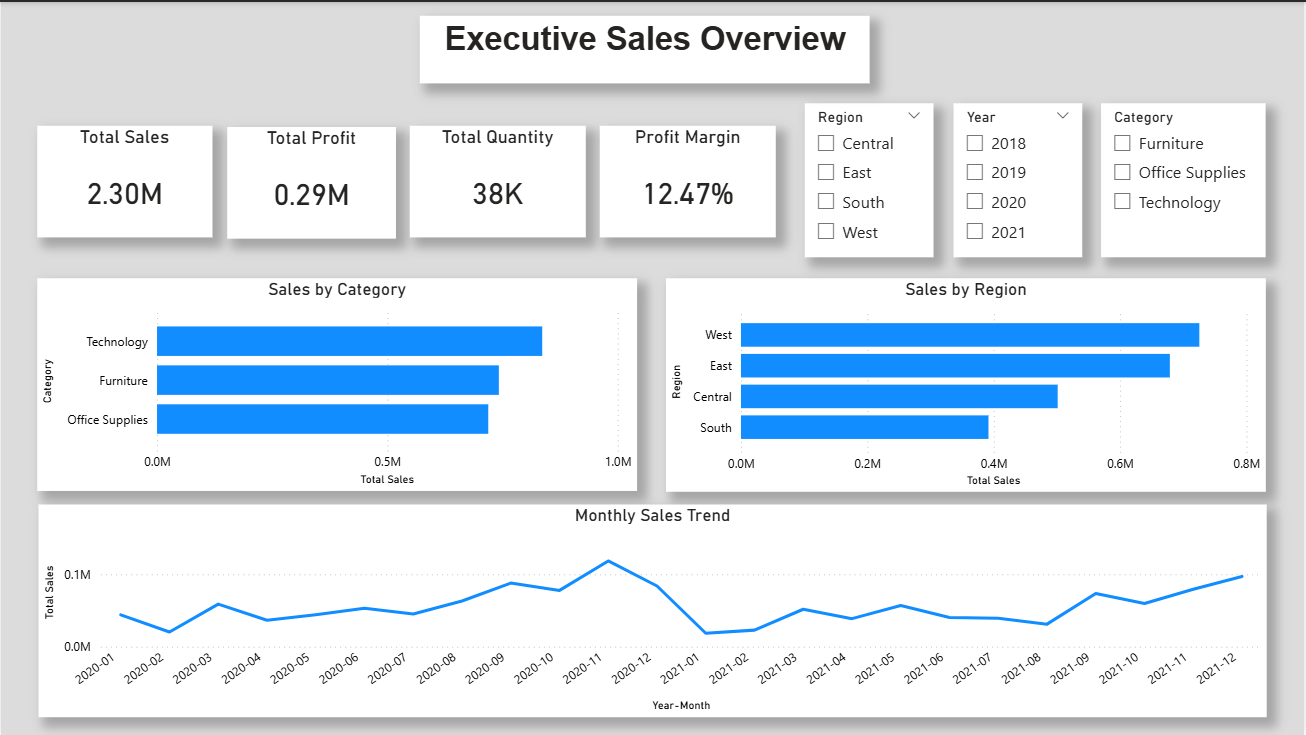

What the dashboard file says about the page in this screenshot:
{"tool":"powerbi","page":{"name":" Executive Overview","canvas":[1280,720],"ordinal":0},"visuals":[{"type":"card","title":"Total Sales","fields":{"Values":["Orders1.Total Sales"]},"box":[35.6,121.5,171.8,109.2],"z":0},{"type":"card","title":"Total Profit","fields":{"Values":["Orders1.Total Profit"]},"box":[222.1,122.7,165.6,109.2],"z":1000},{"type":"card","title":"Total Quantity","fields":{"Values":["Orders1.Total Quantity"]},"box":[401.2,121.5,173,109.2],"z":2000},{"type":"card","title":"Profit Margin","fields":{"Values":["Orders1.Profit Margin %"]},"box":[587.7,121.5,173,109.2],"z":3000},{"type":"clusteredBarChart","title":"Sales by Category","fields":{"Category":["Orders1.Category"],"Y":["Orders1.Total Sales"]},"box":[35.6,271.5,589,208.6],"z":4000},{"type":"clusteredBarChart","title":"Sales by Region","fields":{"Category":["Orders1.Region"],"Y":["Orders1.Total Sales"]},"box":[652.8,270.9,589,209.8],"z":5000},{"type":"slicer","fields":{"Values":["Orders1.Region"]},"box":[789,99.4,126.4,150.9],"z":6000},{"type":"slicer","fields":{"Values":["Orders1.Category"]},"box":[1079.8,99.4,162,150.9],"z":7000},{"type":"slicer","fields":{"Values":["Date_Table.Year"]},"box":[934.4,99.4,126.4,150.9],"z":8000},{"type":"lineChart","title":"Monthly Sales Trend","fields":{"Category":["Date_Table.Year-Month"],"Y":["Orders1.Total Sales"]},"box":[37.1,492.9,1205.7,208.6],"z":9000},{"type":"textbox","box":[422.1,13.5,430.7,66.3],"z":10000}]}

Visuals, with their boxes in screenshot pixels (x1, y1, x2, y2), scaled from the page's 1280x720 canvas onto the 1306x735 screenshot:
"Total Sales" card: {"left": 36, "top": 124, "right": 212, "bottom": 236}
"Total Profit" card: {"left": 227, "top": 125, "right": 396, "bottom": 237}
"Total Quantity" card: {"left": 409, "top": 124, "right": 586, "bottom": 236}
"Profit Margin" card: {"left": 600, "top": 124, "right": 776, "bottom": 236}
"Sales by Category" clusteredBarChart: {"left": 36, "top": 277, "right": 637, "bottom": 490}
"Sales by Region" clusteredBarChart: {"left": 666, "top": 277, "right": 1267, "bottom": 491}
slicer - Orders1.Region: {"left": 805, "top": 101, "right": 934, "bottom": 256}
slicer - Orders1.Category: {"left": 1102, "top": 101, "right": 1267, "bottom": 256}
slicer - Date_Table.Year: {"left": 953, "top": 101, "right": 1082, "bottom": 256}
"Monthly Sales Trend" lineChart: {"left": 38, "top": 503, "right": 1268, "bottom": 716}
textbox: {"left": 431, "top": 14, "right": 870, "bottom": 81}
